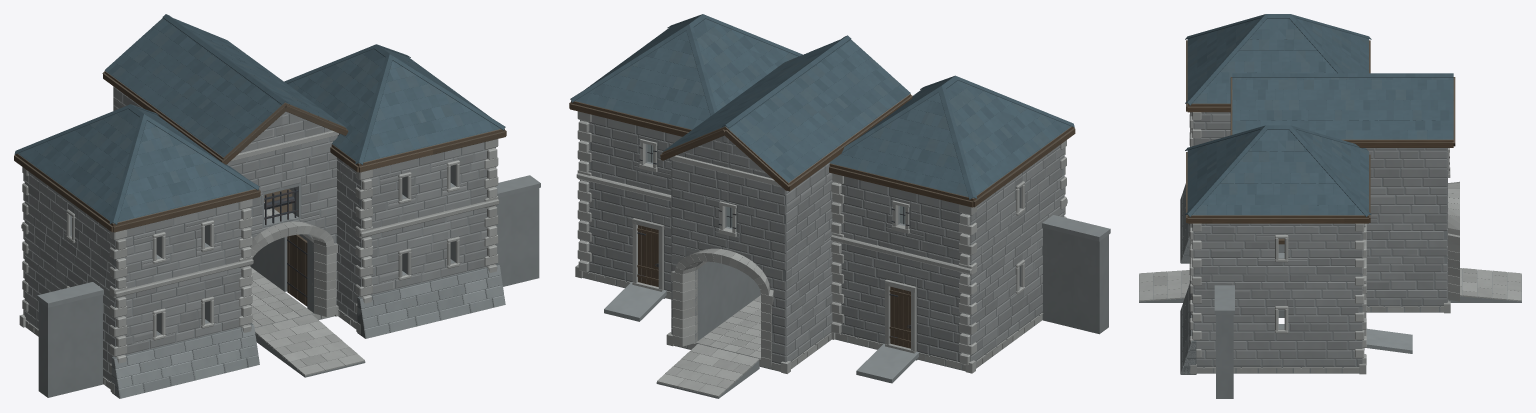
File: gatehouse.glb
3 renders of one model, left to right at view 1: azimuth 30°, elevation 25°; view 2: azimuth 150°, elevation 25°; view 3: azimuth 270°, elevation 25°, orthographic. The views are drawn at different scales.
Parts seen in each view (by area): view 1: world_thornfell.gatehouse_west_watchtower.facade_masonry_ski, world_thornfell.gatehouse_east_watchtower.facade_masonry_ski, world_thornfell.gatehouse_portal.Split oak shingle courses, world_thornfell.gatehouse_portal.facade_masonry_skin, world_thornfell.gatehouse_west_watchtower.Split oak shingle , world_thornfell.gatehouse_west_watchtower.gatehouse.curtain_, world_thornfell.gatehouse_east_watchtower.Split oak shingle , world_thornfell.gatehouse_west_watchtower.gatehouse.west_bat, world_thornfell.gatehouse_east_watchtower.gatehouse.east_bat, world_thornfell.gatehouse_east_watchtower.gatehouse.curtain_, world_thornfell.gatehouse_west_watchtower.gatehouse.west_bon, world_thornfell.gatehouse_portal.gatehouse.front_threshold_r (+37 smaller); view 2: world_thornfell.gatehouse_west_watchtower.facade_masonry_ski, world_thornfell.gatehouse_portal.facade_masonry_skin, world_thornfell.gatehouse_east_watchtower.facade_masonry_ski, world_thornfell.gatehouse_portal.Split oak shingle courses, world_thornfell.gatehouse_west_watchtower.Split oak shingle , world_thornfell.gatehouse_east_watchtower.Split oak shingle , world_thornfell.gatehouse_west_watchtower.gatehouse.curtain_, world_thornfell.gatehouse_west_watchtower.gatehouse.west_bon, world_thornfell.gatehouse_west_watchtower.facade_walls, world_thornfell.gatehouse_portal.gatehouse.passage_cheek.eas, world_thornfell.gatehouse_portal.gatehouse.rear_threshold_ra, world_thornfell.gatehouse_portal.facade_walls (+35 smaller); view 3: world_thornfell.gatehouse_east_watchtower.facade_masonry_ski, world_thornfell.gatehouse_portal.facade_masonry_skin, world_thornfell.gatehouse_portal.Split oak shingle courses, world_thornfell.gatehouse_east_watchtower.Split oak shingle , world_thornfell.gatehouse_west_watchtower.Split oak shingle , world_thornfell.gatehouse_east_watchtower.facade_walls, world_thornfell.gatehouse_portal.gatehouse.rear_threshold_ra (×2), world_thornfell.gatehouse_east_watchtower.gatehouse.east_bon, world_thornfell.gatehouse_east_watchtower.Exposed shingle bu, world_thornfell.gatehouse_portal.Seasoned shingle cohorts, world_thornfell.gatehouse_east_watchtower.gatehouse.curtain_, world_thornfell.gatehouse_east_watchtower.Overlapping ridge  (+25 smaller).
Part boxes in pixels (x1,y1,x2,y2): world_thornfell.gatehouse_west_watchtower.facade_masonry_ski: (24, 171, 250, 381); world_thornfell.gatehouse_east_watchtower.facade_masonry_ski: (336, 142, 496, 321); world_thornfell.gatehouse_portal.Split oak shingle courses: (105, 18, 337, 156); world_thornfell.gatehouse_portal.facade_masonry_skin: (113, 86, 337, 297); world_thornfell.gatehouse_west_watchtower.Split oak shingle : (19, 108, 246, 221); world_thornfell.gatehouse_west_watchtower.gatehouse.curtain_: (37, 282, 103, 397); world_thornfell.gatehouse_east_watchtower.Split oak shingle : (287, 48, 492, 161); world_thornfell.gatehouse_west_watchtower.gatehouse.west_bat: (111, 325, 259, 398); world_thornfell.gatehouse_east_watchtower.gatehouse.east_bat: (357, 265, 505, 338); world_thornfell.gatehouse_east_watchtower.gatehouse.curtain_: (496, 175, 540, 286); world_thornfell.gatehouse_west_watchtower.gatehouse.west_bon: (22, 167, 252, 373); world_thornfell.gatehouse_portal.gatehouse.front_threshold_r: (254, 314, 364, 375); world_thornfell.gatehouse_west_watchtower.facade_masonry_ski: (833, 145, 1064, 361); world_thornfell.gatehouse_portal.facade_masonry_skin: (671, 135, 832, 363); world_thornfell.gatehouse_east_watchtower.facade_masonry_ski: (580, 115, 681, 291); world_thornfell.gatehouse_portal.Split oak shingle courses: (664, 41, 910, 182); world_thornfell.gatehouse_west_watchtower.Split oak shingle : (829, 79, 1070, 194); world_thornfell.gatehouse_east_watchtower.Split oak shingle : (575, 18, 788, 129); world_thornfell.gatehouse_west_watchtower.gatehouse.curtain_: (1042, 215, 1110, 334); world_thornfell.gatehouse_west_watchtower.gatehouse.west_bon: (831, 140, 1066, 365); world_thornfell.gatehouse_west_watchtower.facade_walls: (842, 150, 1064, 361); world_thornfell.gatehouse_portal.gatehouse.passage_cheek.eas: (671, 261, 760, 340); world_thornfell.gatehouse_portal.gatehouse.rear_threshold_ra: (657, 344, 759, 397); world_thornfell.gatehouse_portal.facade_walls: (671, 136, 831, 361); world_thornfell.gatehouse_east_watchtower.facade_masonry_ski: (1193, 223, 1363, 366); world_thornfell.gatehouse_portal.facade_masonry_skin: (1366, 148, 1447, 305); world_thornfell.gatehouse_portal.Split oak shingle courses: (1232, 77, 1453, 139); world_thornfell.gatehouse_east_watchtower.Split oak shingle : (1187, 130, 1368, 214); world_thornfell.gatehouse_west_watchtower.Split oak shingle : (1187, 18, 1368, 103); world_thornfell.gatehouse_east_watchtower.facade_walls: (1193, 223, 1362, 366); world_thornfell.gatehouse_portal.gatehouse.rear_threshold_ra (×2): (1448, 268, 1521, 302); world_thornfell.gatehouse_east_watchtower.gatehouse.east_bon: (1189, 223, 1366, 364); world_thornfell.gatehouse_east_watchtower.Exposed shingle bu: (1187, 130, 1368, 214); world_thornfell.gatehouse_portal.Seasoned shingle cohorts: (1232, 77, 1453, 139); world_thornfell.gatehouse_east_watchtower.gatehouse.curtain_: (1214, 285, 1234, 398); world_thornfell.gatehouse_east_watchtower.Overlapping ridge : (1185, 125, 1371, 216).
Size of the model in its own units: 21.26 by 9.8 by 15.4.
Materials: 11 (10 with a texture image).
